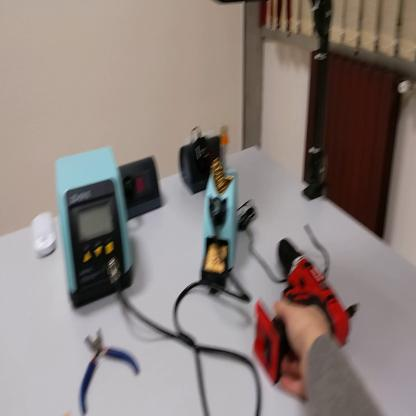electric screwdriver: (249, 233, 353, 390)
hand: (272, 297, 329, 395)
pliers: (70, 330, 141, 414)
socket: (118, 154, 166, 225), (179, 136, 229, 198)
welder base: (199, 125, 241, 305)
welder station: (52, 144, 136, 313)
